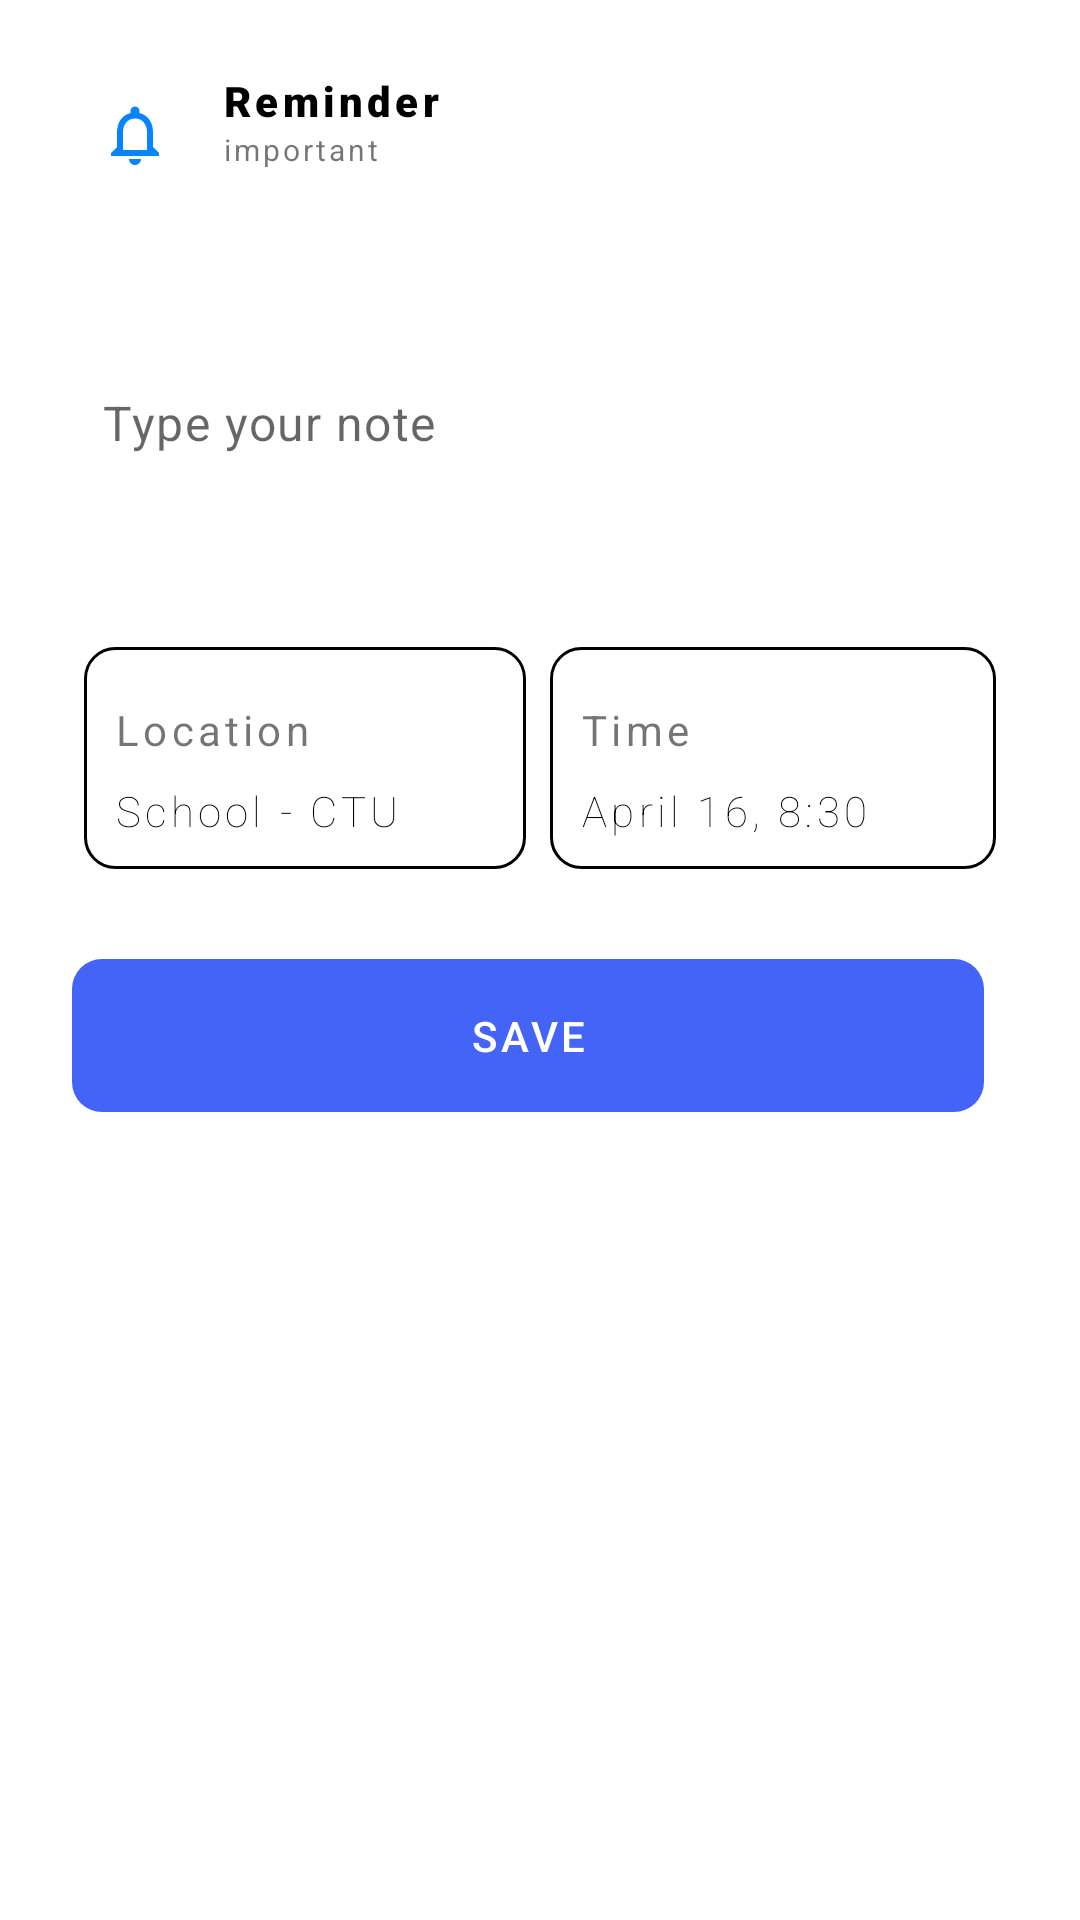

Named icons in this screenshot (1080w x 1920h) and their centers, point (x, y):
notifications none: point (135, 135)
